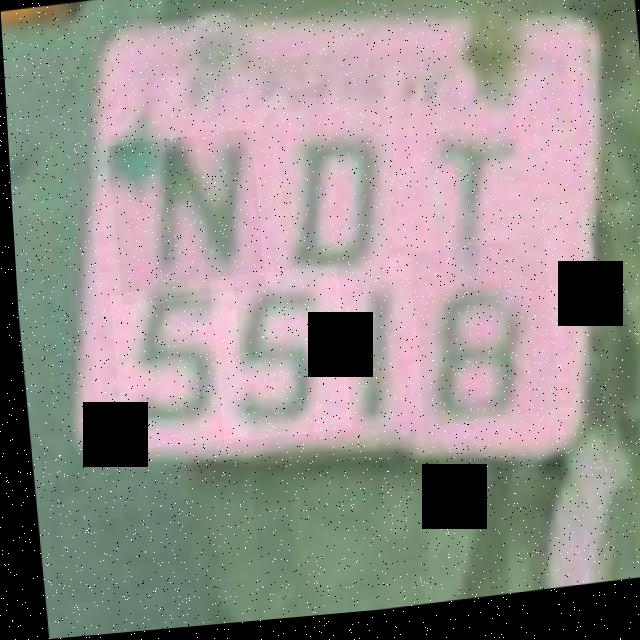1: (328, 261, 422, 434)
5: (205, 269, 346, 447), (105, 285, 242, 454)
8: (404, 246, 554, 434)
N: (105, 133, 263, 308)
T: (389, 107, 527, 287)
